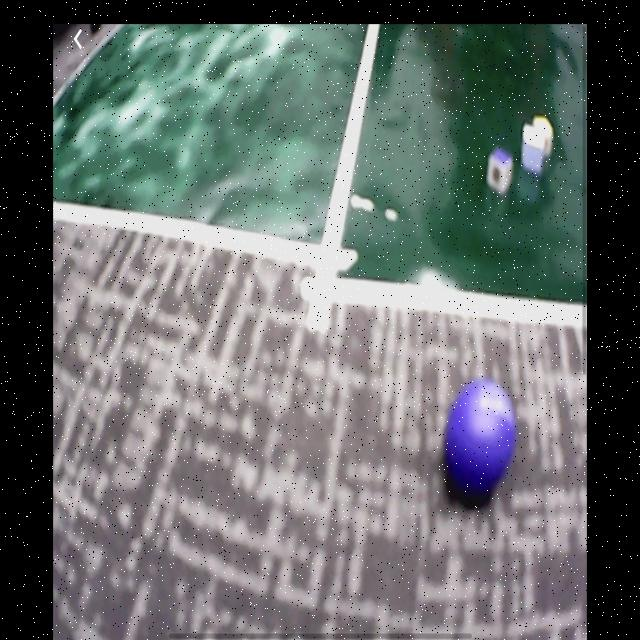ball: (445, 381, 517, 491)
